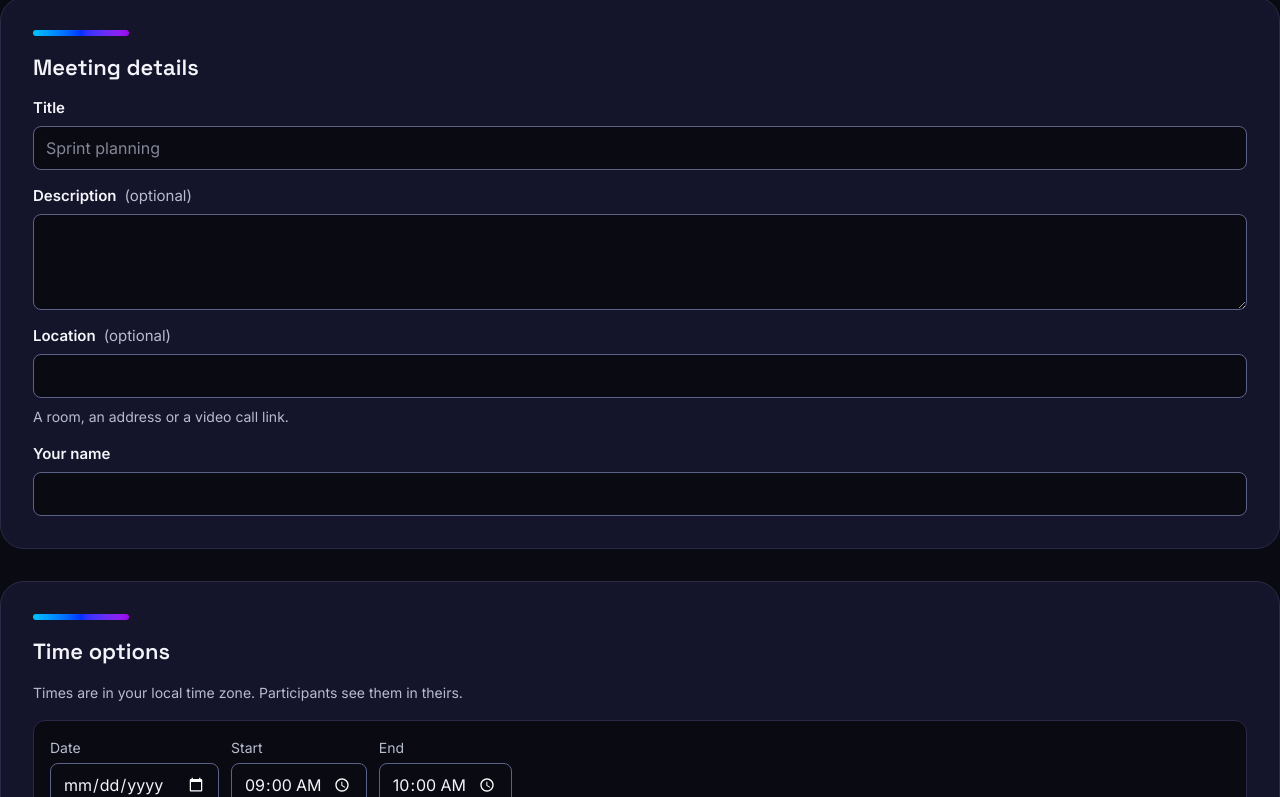
CreatePollForm › flags a slot that ends before it starts
This screenshot has width=1280, height=797.
Type "Retro" into the field labelled "Title". click: [640, 148]
box: x1=33 y1=126 x2=1247 y2=170
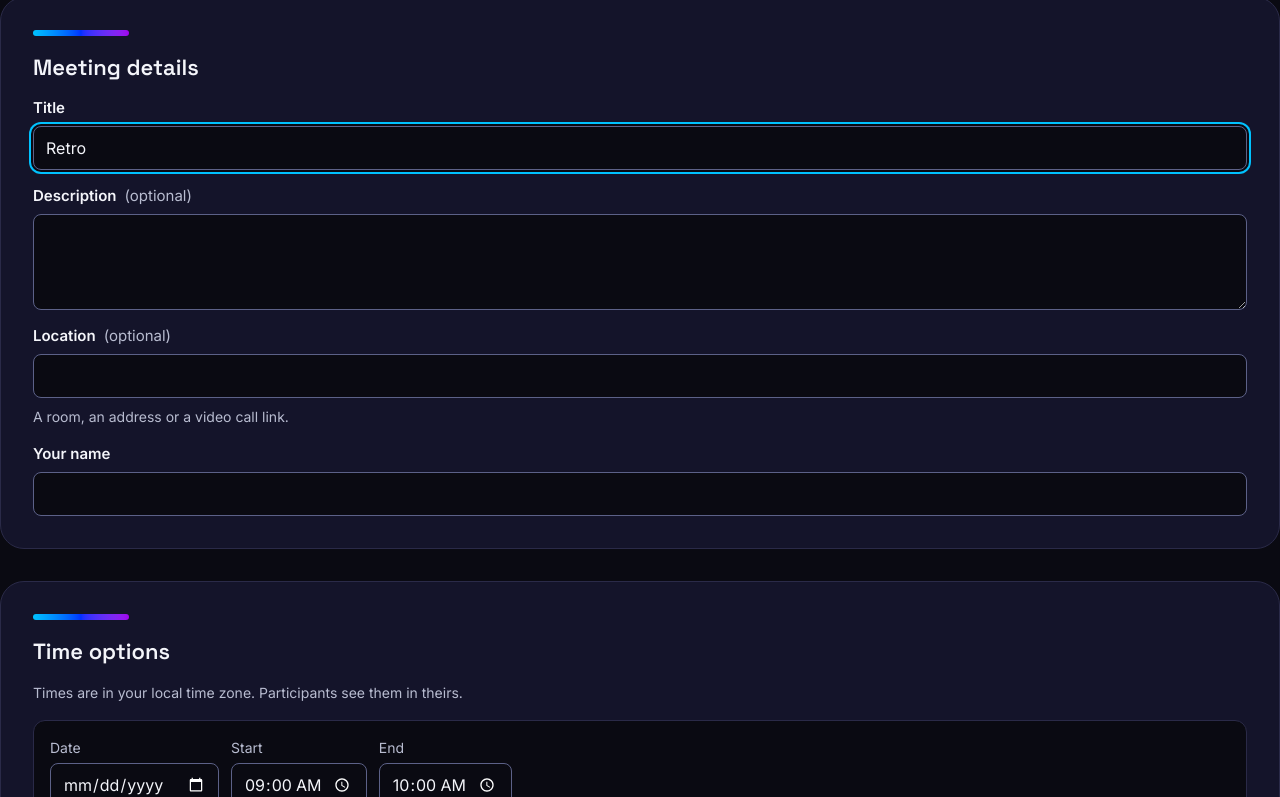
Type "Ann" into the field labelled "Your name". click: [640, 494]
box: x1=33 y1=472 x2=1247 y2=516
(page scrolled)
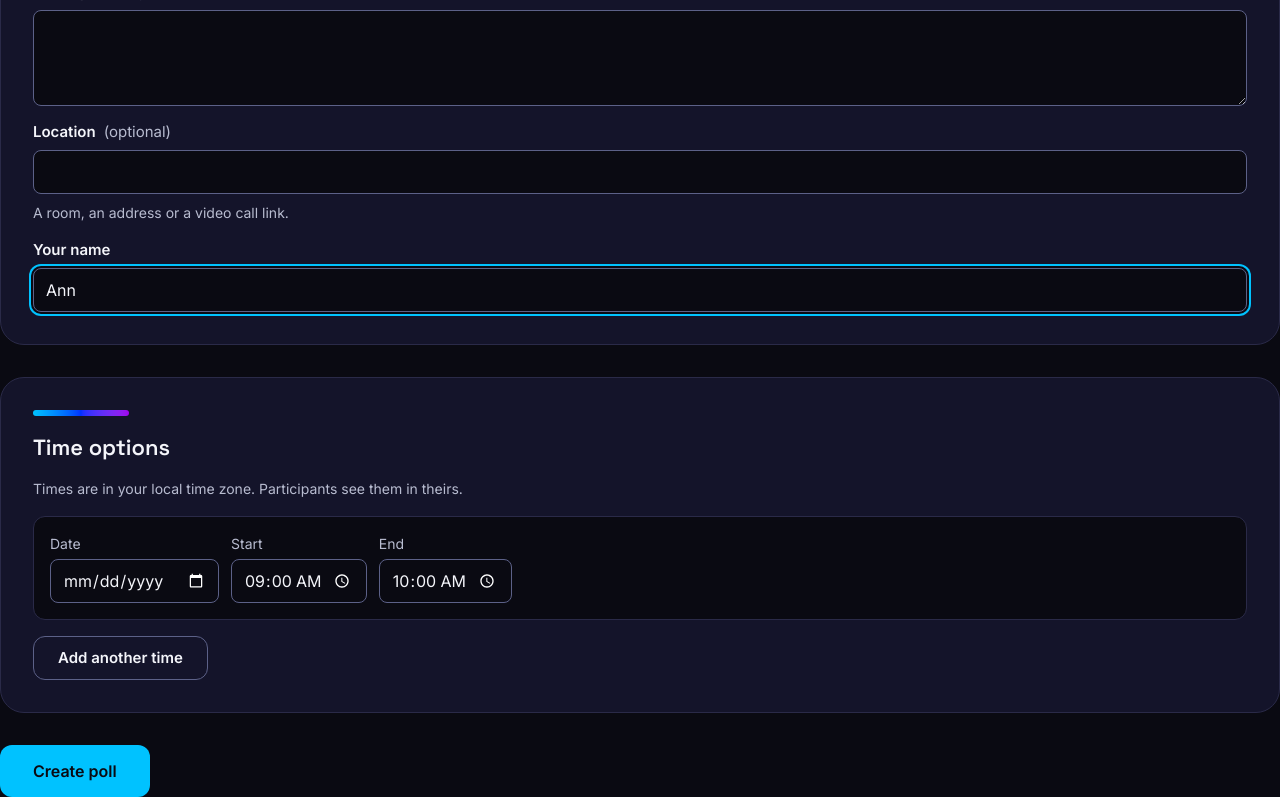
Type "2026-12-01" into the date field named "Option 1 date". click: [134, 581]
box: x1=50 y1=559 x2=219 y2=603
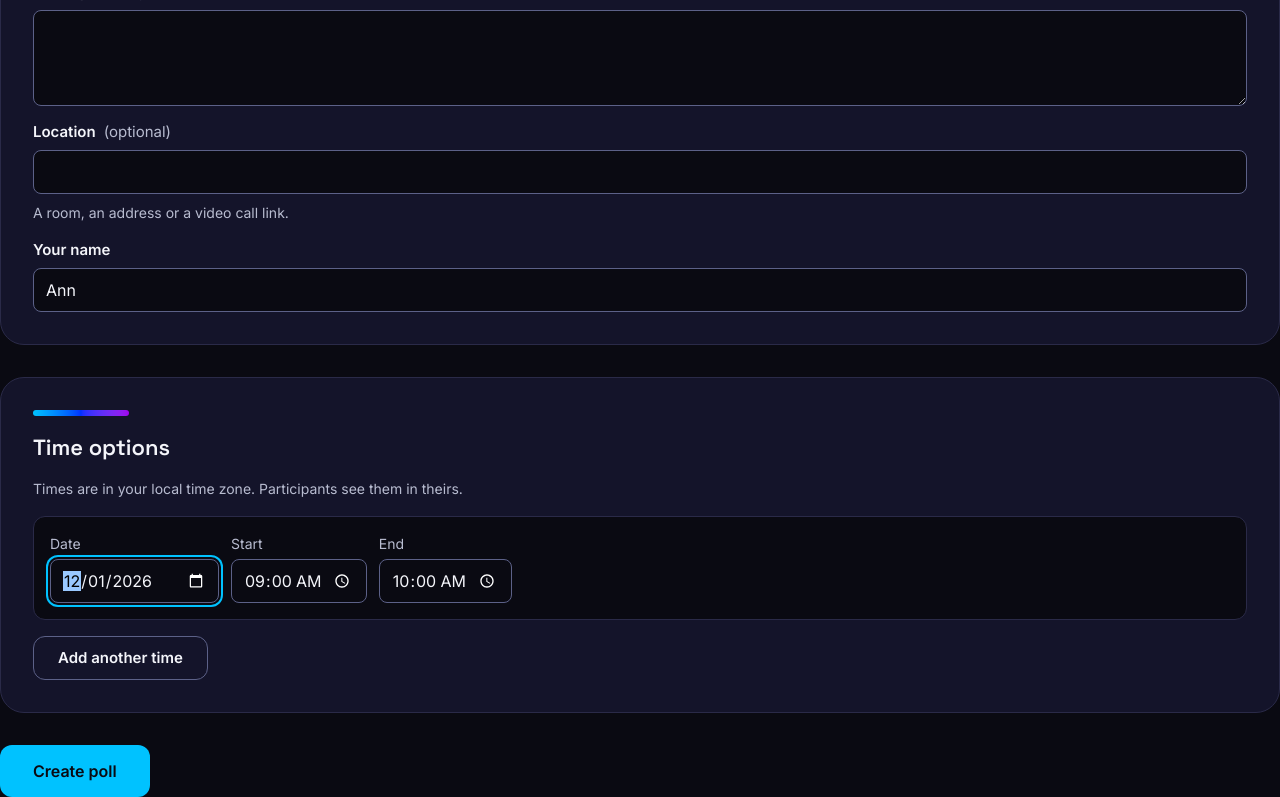
Clear the time field named "Option 1 end". click: [445, 581]
box: x1=379 y1=559 x2=512 y2=603
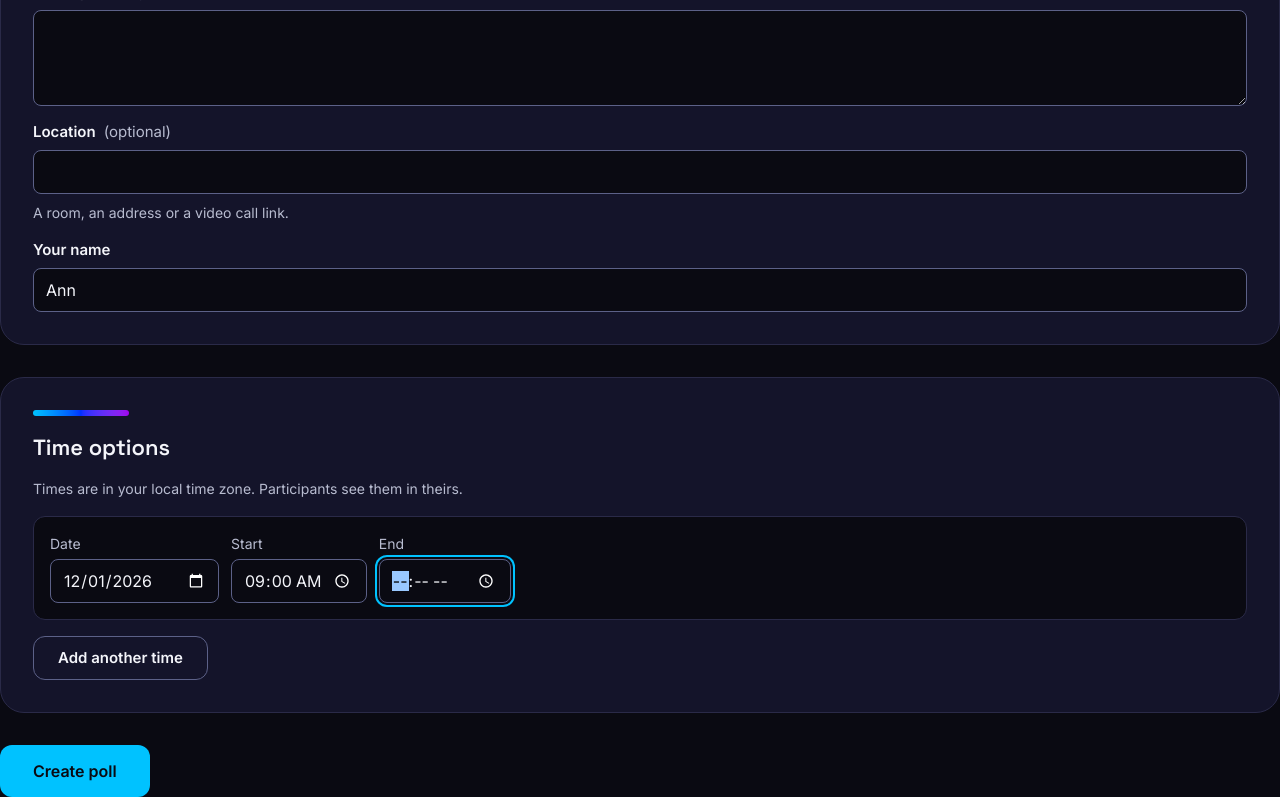
Type "08:00" into the time field named "Option 1 end". click: [445, 581]
box: x1=379 y1=559 x2=511 y2=603
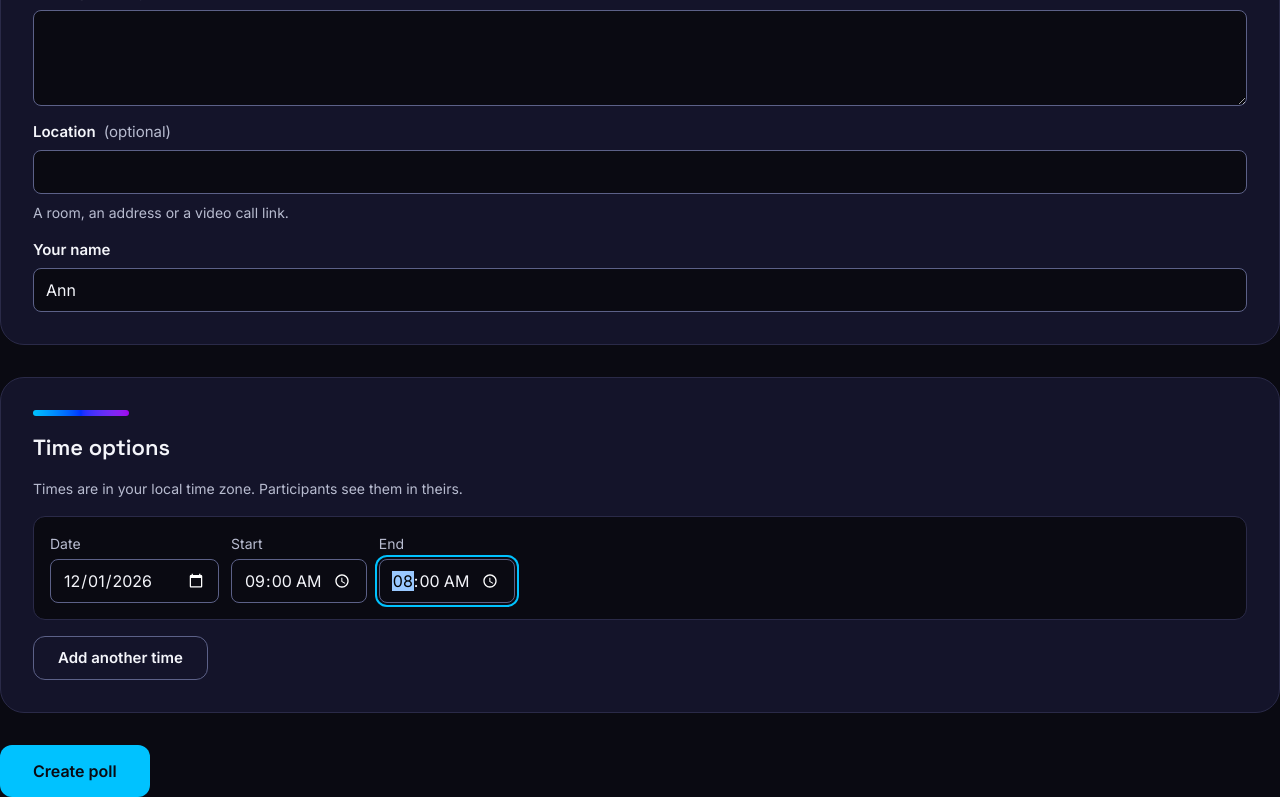
Click the button "Create poll". click: [75, 771]
box: x1=0 y1=745 x2=150 y2=796
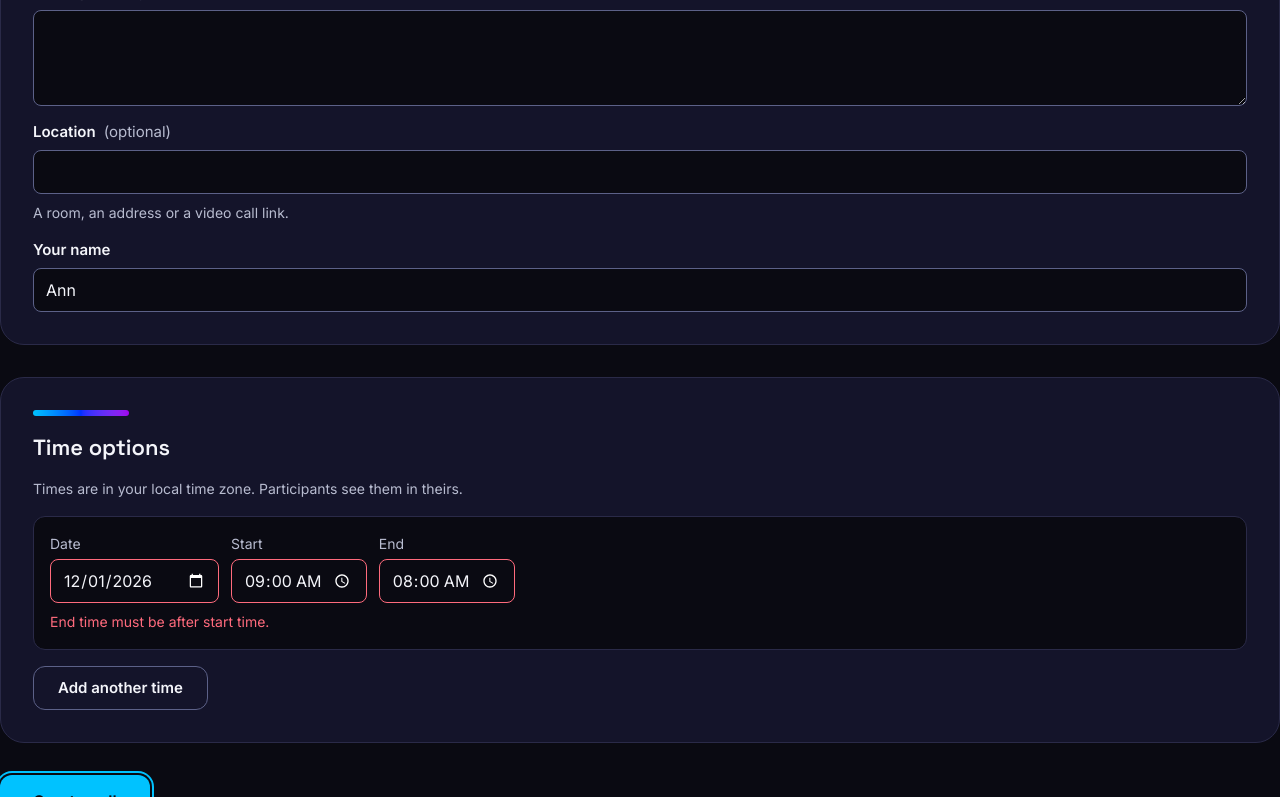
Result: the text "End time must be after start time." is shown at x1=50 y1=613 x2=269 y2=630
